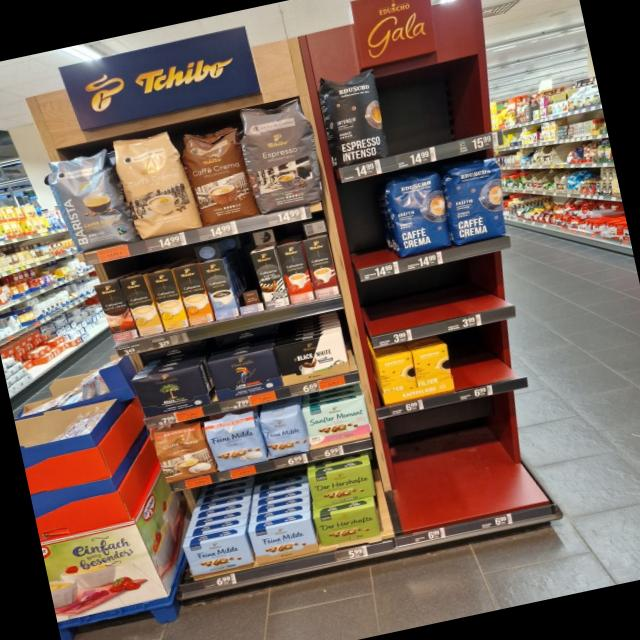BM Gemahlen: (129, 365, 211, 420)
BW Gemahlen: (275, 331, 351, 386)
Barista CC: (40, 144, 134, 256)
CC Mild: (110, 124, 200, 243)
CC Vollmundig: (150, 417, 214, 485)
CC Vollmundig 36 Pads: (180, 122, 256, 228)
Espresso Aromatisch: (232, 91, 328, 215)
FM 36 Pads: (202, 410, 268, 472)
FM Bohne: (258, 408, 312, 460)
FM Gemahlen: (247, 515, 320, 566), (182, 530, 254, 578)
Herzhatfe Mundig: (311, 500, 383, 550), (306, 460, 378, 510)
LG Gemahlen: (207, 347, 282, 401)
SM Gemahlen: (302, 394, 372, 446)
Simo CCMild bigpack: (147, 268, 188, 330)
Simo CCVollmundig bigpack: (93, 280, 138, 341), (173, 263, 214, 325)
Simo Decaff: (119, 275, 163, 336)
Simo Es Brazil: (277, 240, 314, 304)
Simo Es Caramel: (302, 234, 340, 300)
Simo Es Elegant: (251, 248, 289, 309)
Simo Es Vanilla: (199, 259, 240, 319)
